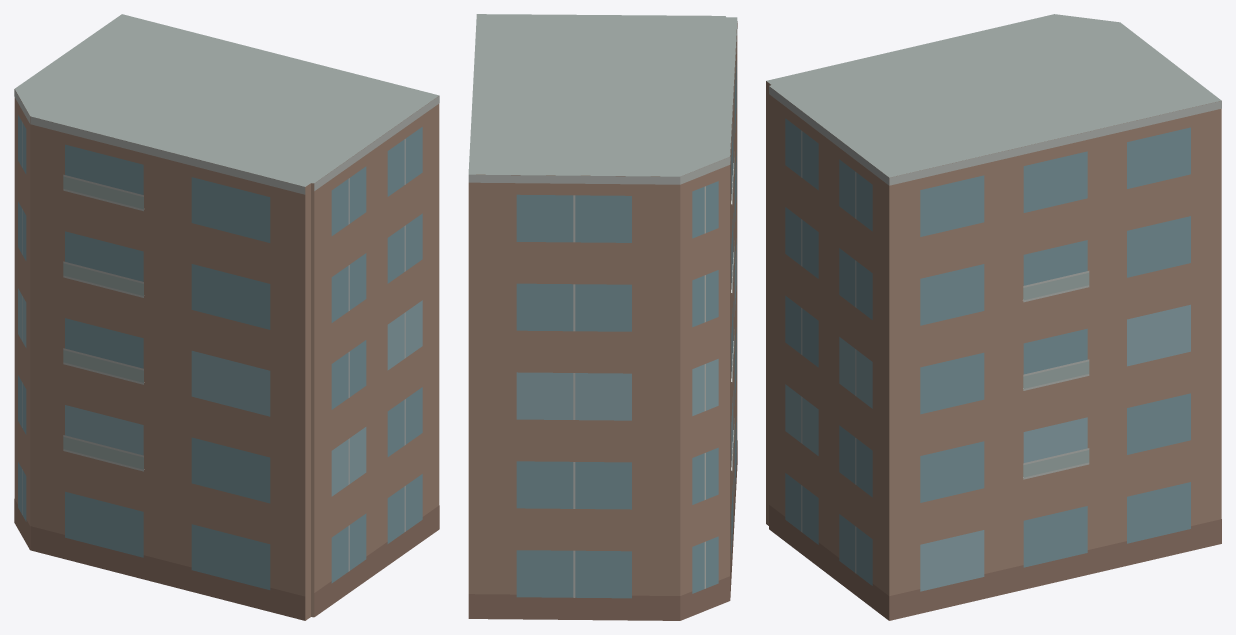
Rendered from survey-upis-32664547.glb.
3 renders of one model, left to right at view 1: azimuth 30°, elevation 25°; view 2: azimuth 150°, elevation 25°; view 3: azimuth 270°, elevation 25°, orthographic. The views are drawn at different scales.
Visible parts, largest first — view 1: survey-upis-32664547.tmp; view 2: survey-upis-32664547.tmp; view 3: survey-upis-32664547.tmp.
Boxes of the visible parts, <box> form: survey-upis-32664547.tmp: <box>14,14,439,620</box>; survey-upis-32664547.tmp: <box>468,14,737,620</box>; survey-upis-32664547.tmp: <box>766,14,1221,620</box>.
Bounding box in the file's own units: 10.62 × 13.4 × 12.49.
